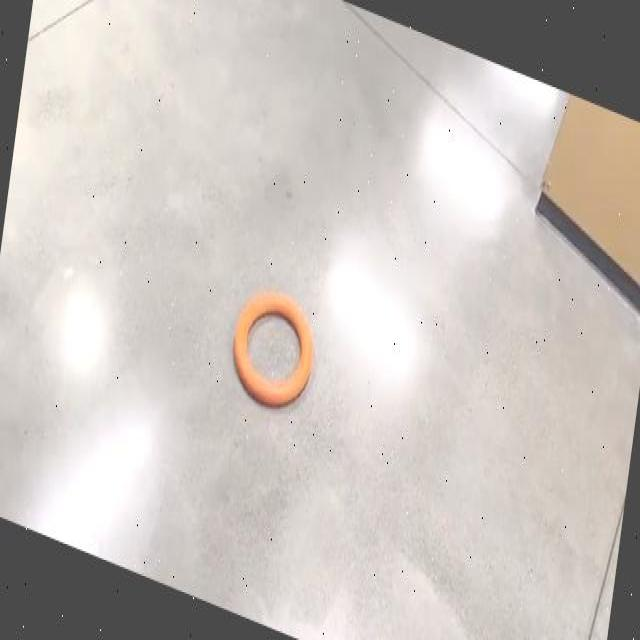note: (233, 291, 314, 405)
